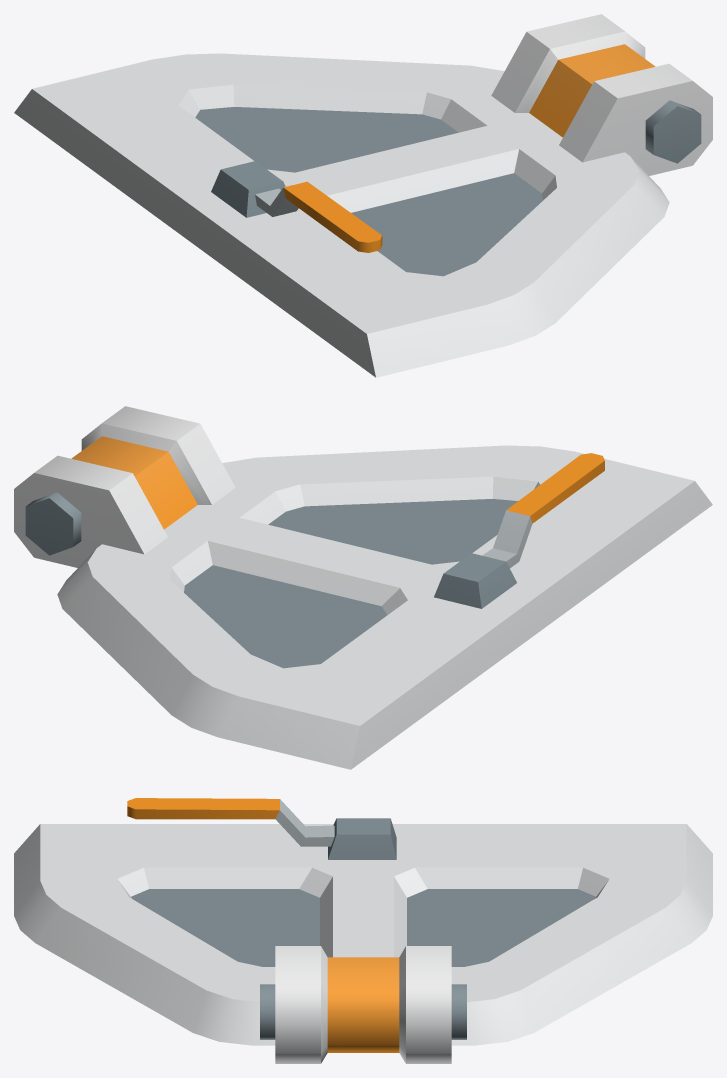
Rendered from Hatch_005_door_002.fbx.
3 renders of one model, top to bottom at view 1: azimuth 30°, elevation 25°; view 2: azimuth 150°, elevation 25°; view 3: azimuth 270°, elevation 25°, orthographic. The views are drawn at different scales.
Visible parts, largest first — view 1: Hatch_005_door_002; view 2: Hatch_005_door_002; view 3: Hatch_005_door_002.
Boxes of the visible parts, <box> form: Hatch_005_door_002: <box>14,14,712,377</box>; Hatch_005_door_002: <box>14,406,712,769</box>; Hatch_005_door_002: <box>14,798,712,1063</box>.
Size of the model in its own units: 60.25 by 80 by 10.76.
